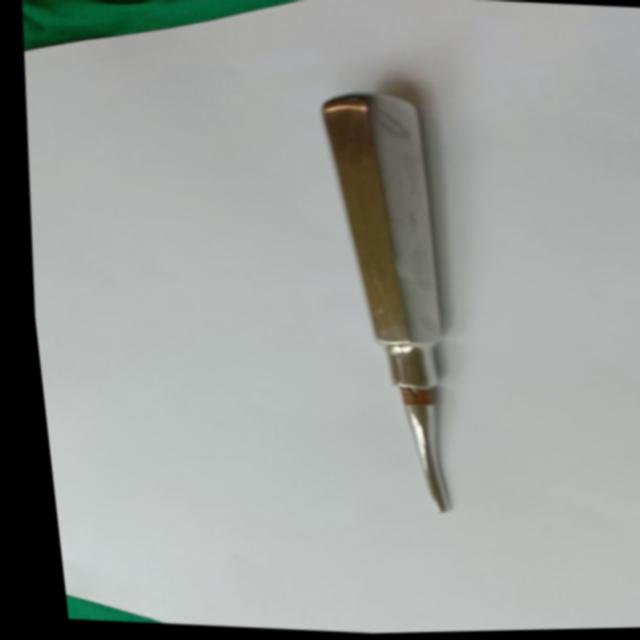Coupland1: (279, 88, 497, 526)
